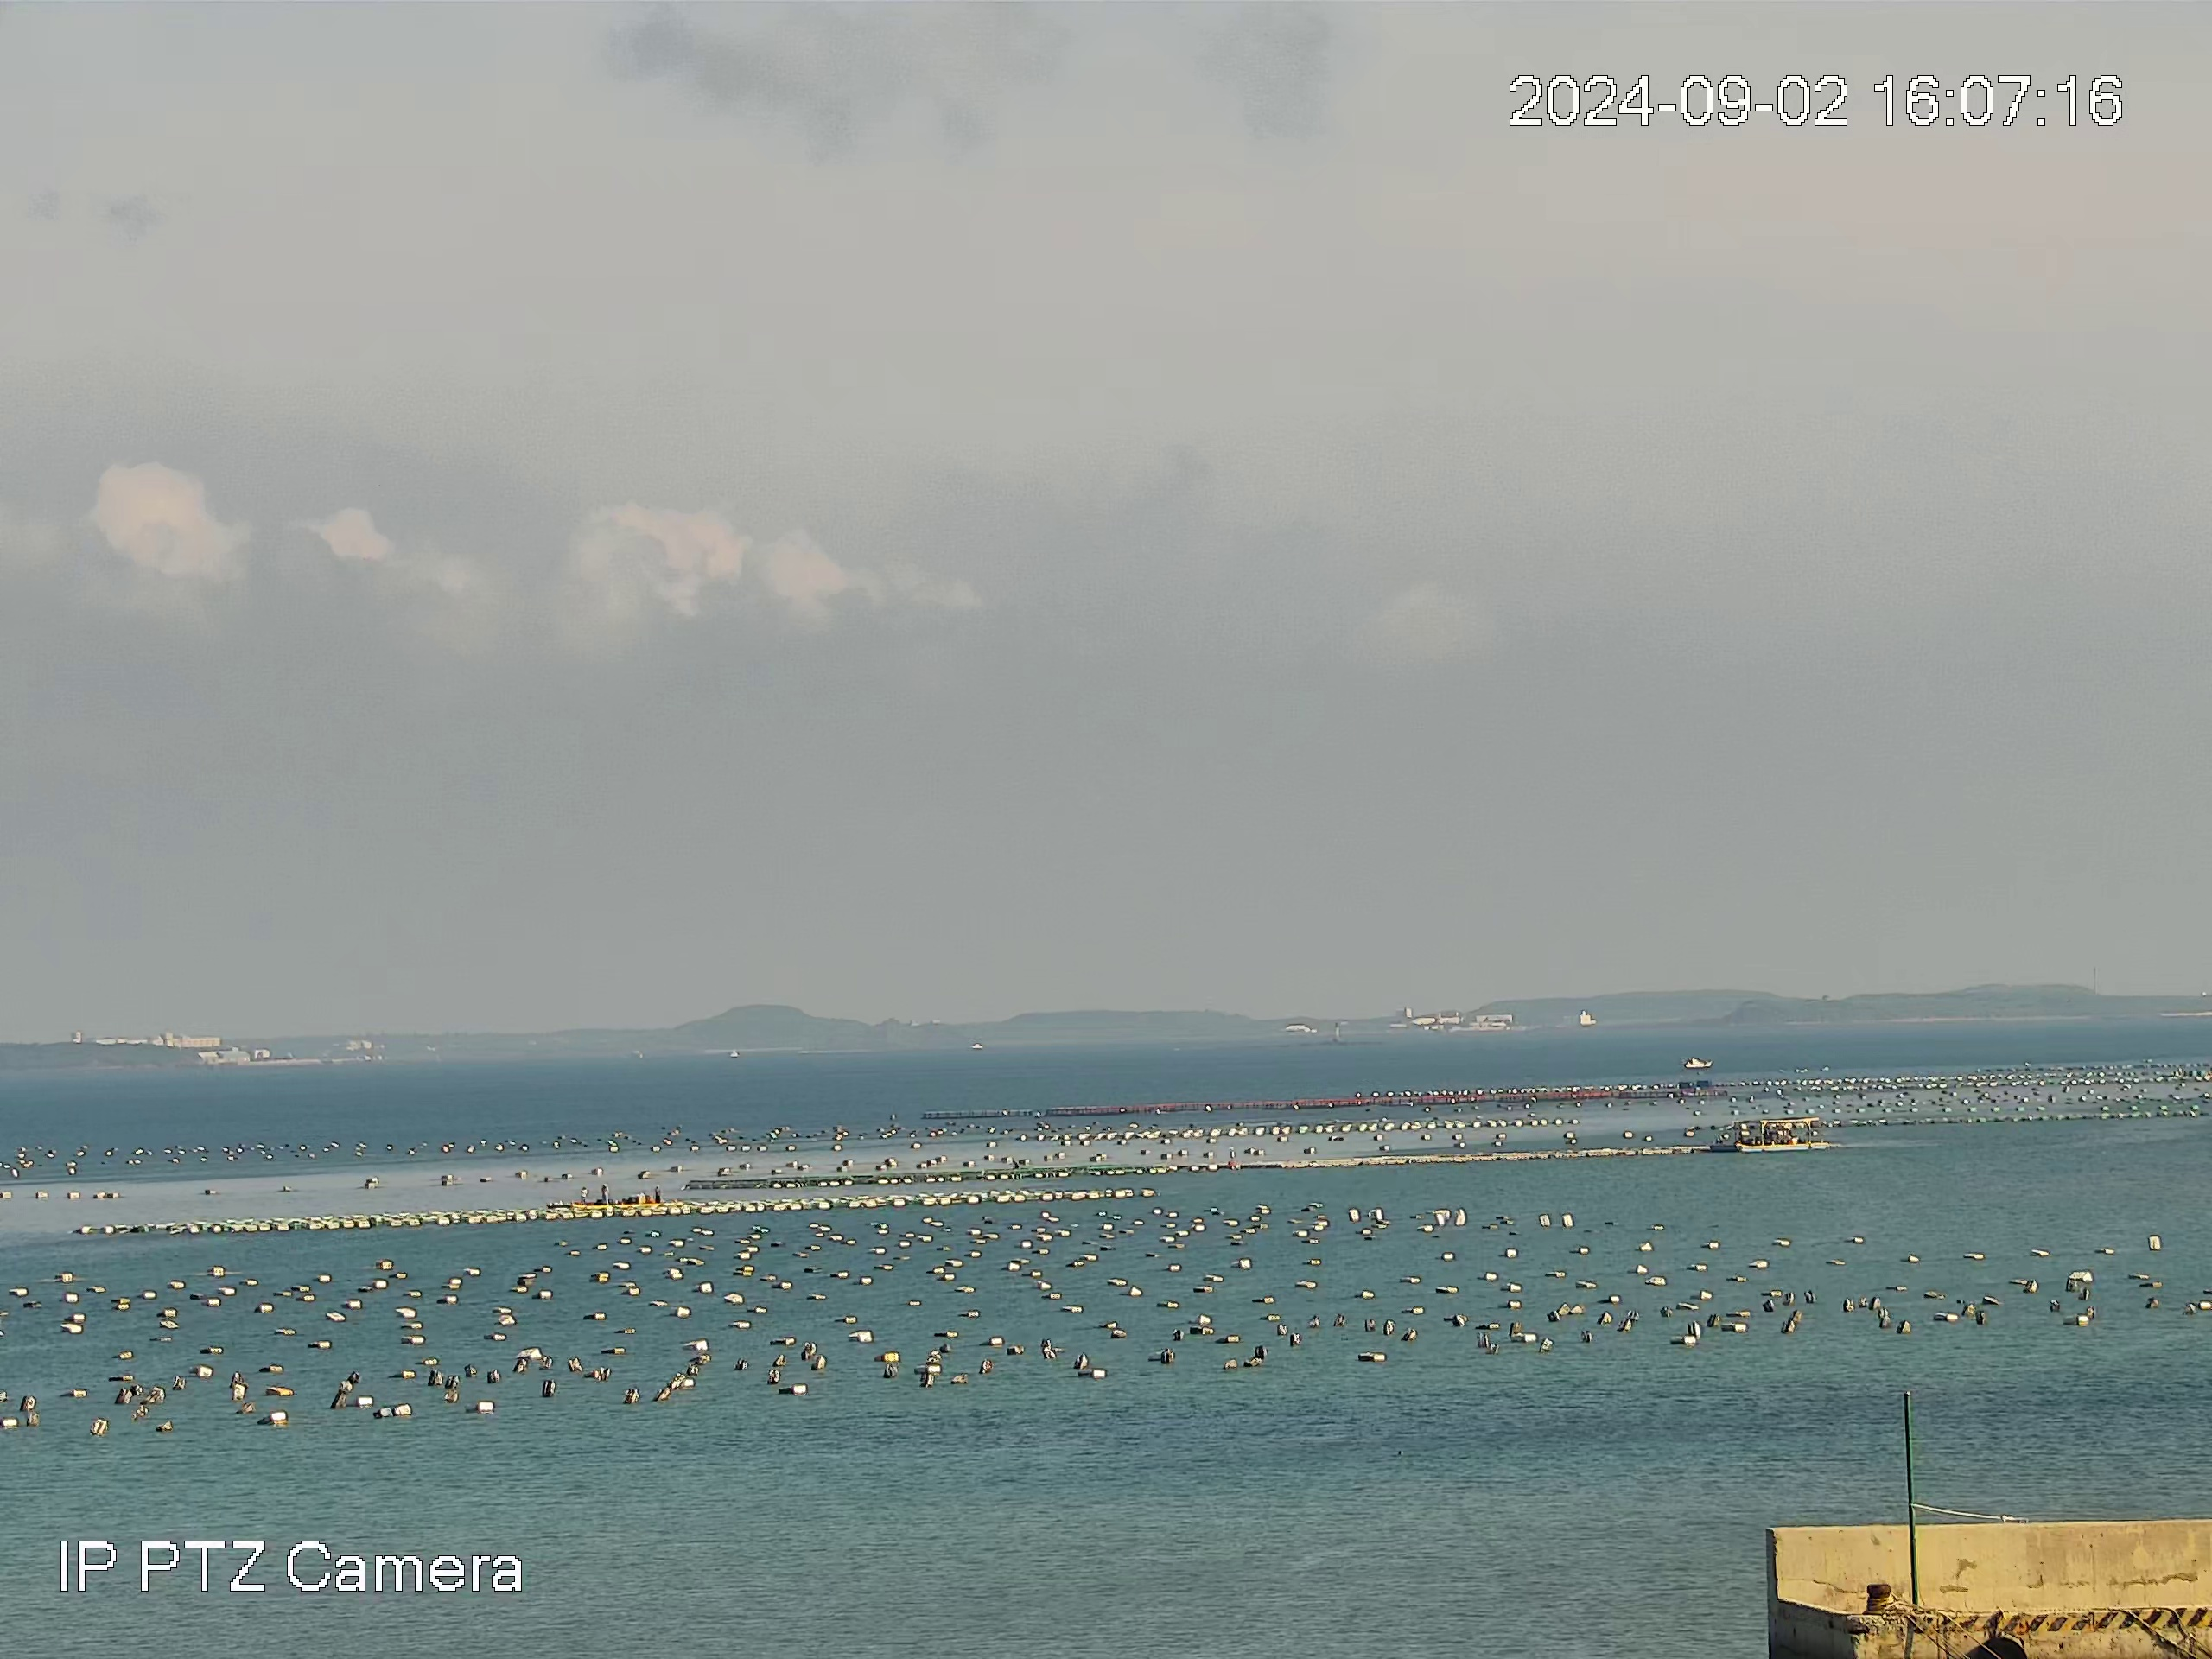boat: (1733, 1115, 1831, 1154), (568, 1182, 667, 1209), (1683, 1056, 1714, 1070)
